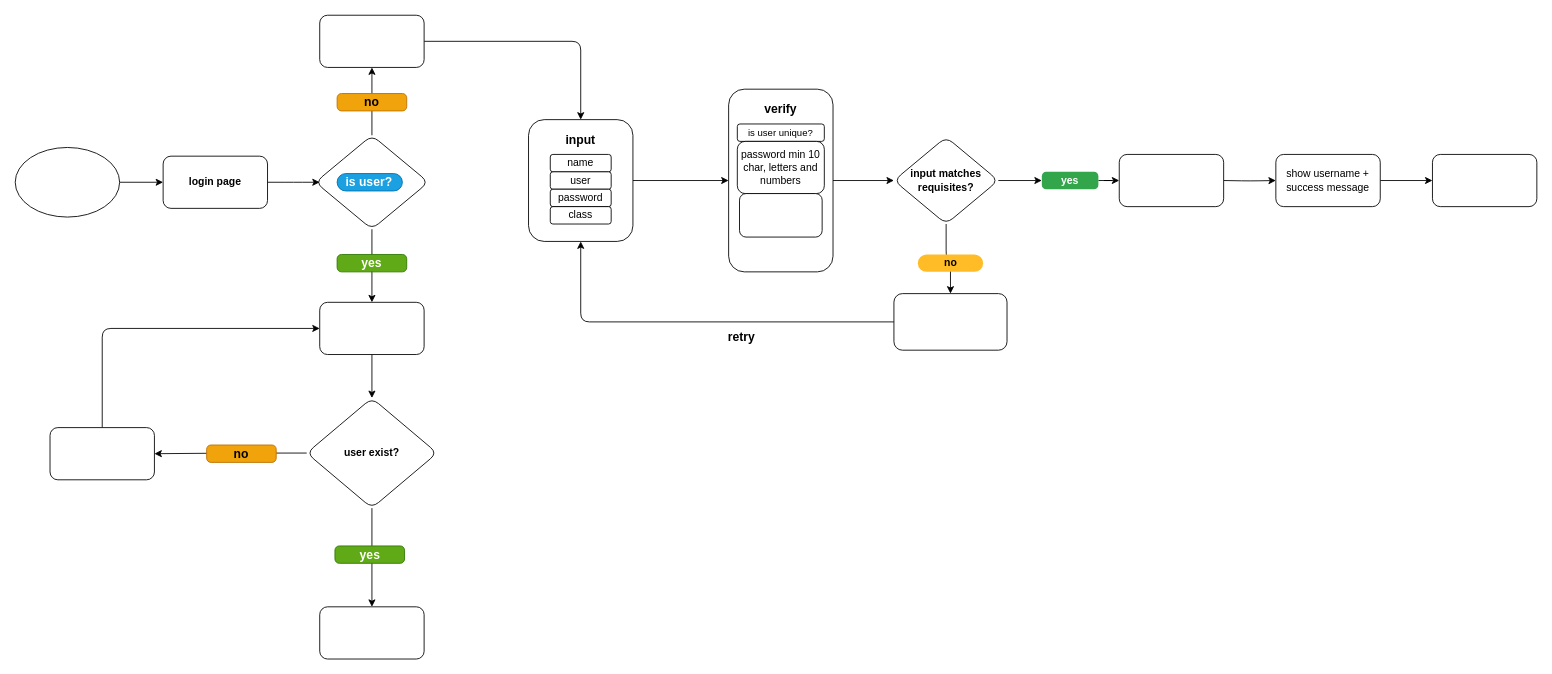
This 1552x674 diagram has some shape labels left out. Each missing label, with the box of its shape:
class : enum->classes: (739, 193, 822, 237)
create account: (319, 14, 424, 67)
insert new user in database.user: (1118, 154, 1224, 207)
login: (319, 301, 424, 355)
redirect home page: (319, 606, 424, 659)
redirect login page: (1432, 154, 1537, 207)
start: (14, 147, 120, 217)
validation dont match, show error message: (893, 293, 1007, 350)
wrong user or password: (49, 427, 154, 480)
